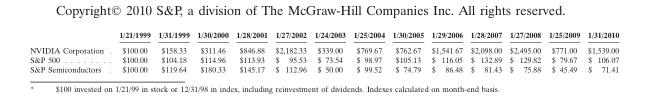table: (29, 29, 618, 73)
table column: (29, 29, 110, 73), (110, 29, 153, 73), (426, 29, 466, 73), (153, 29, 192, 73), (192, 29, 231, 73), (231, 29, 270, 73), (270, 29, 309, 73), (309, 29, 348, 73), (348, 29, 387, 73), (387, 29, 426, 73), (466, 29, 505, 73), (505, 29, 544, 73), (544, 29, 583, 73), (583, 29, 618, 73)
table column header: (29, 29, 618, 41)
table row: (29, 41, 618, 54), (29, 29, 618, 41), (29, 54, 618, 64), (29, 64, 618, 73)
